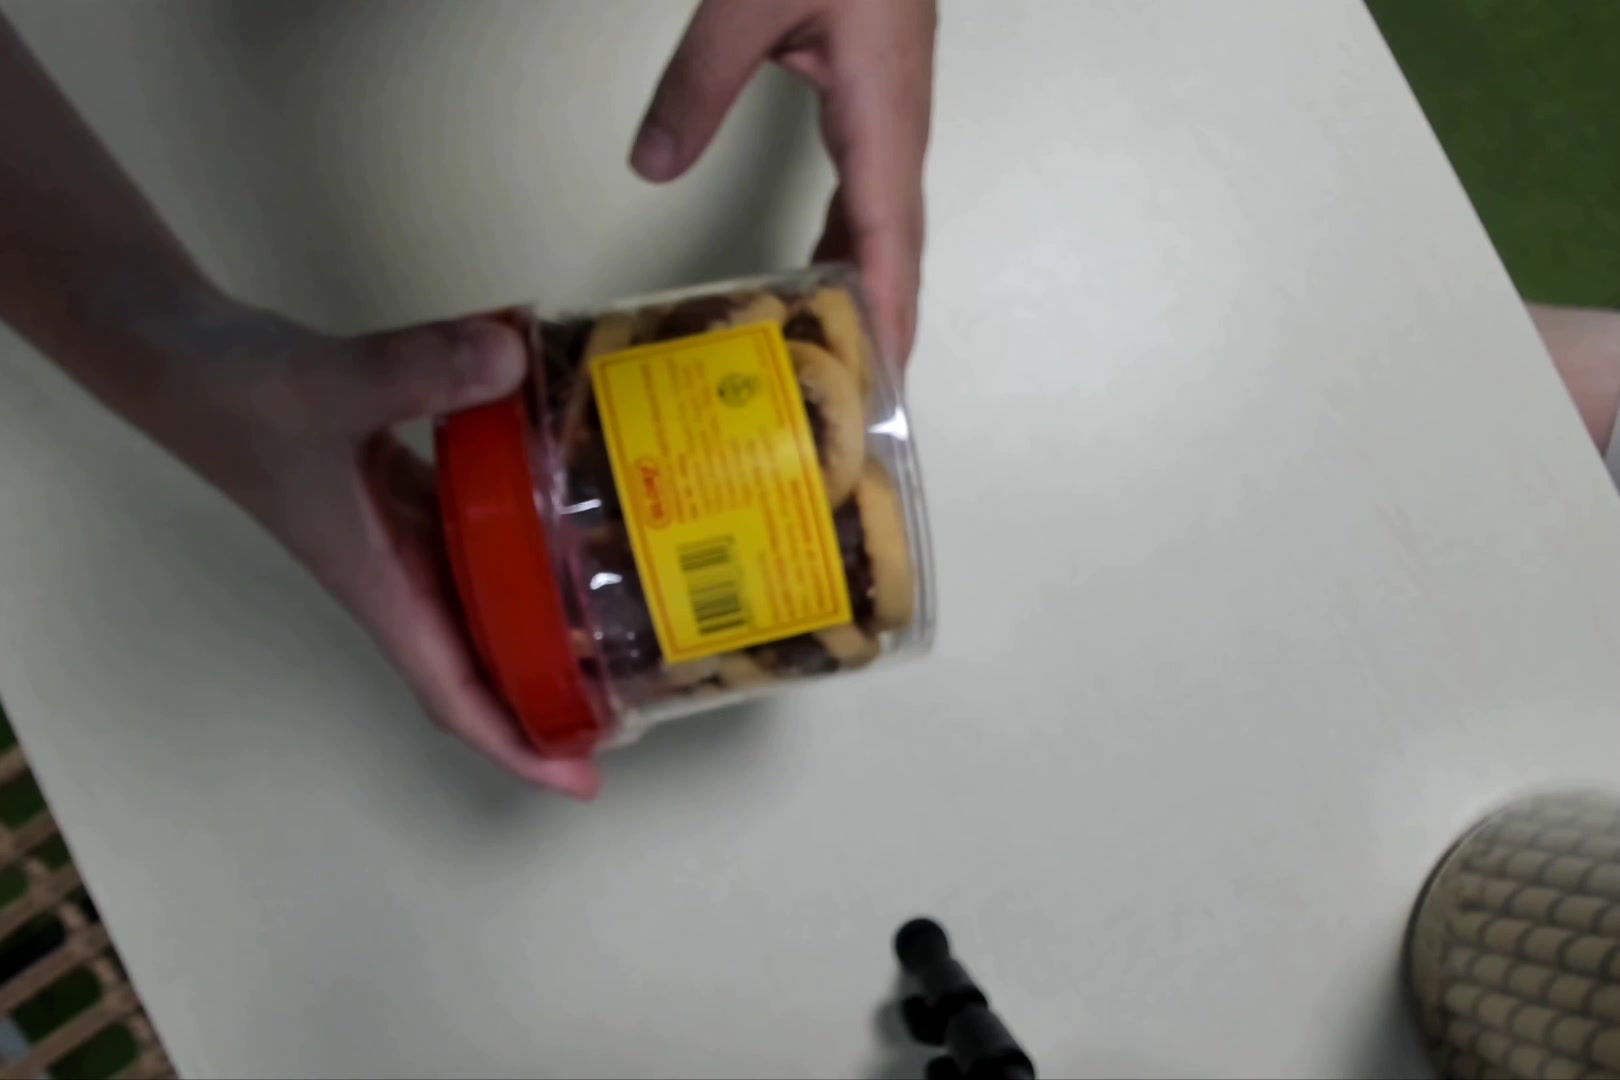BiscuitsCrackersCookies_400-499g_Halal_NonHealthy: (438, 263, 938, 764)
